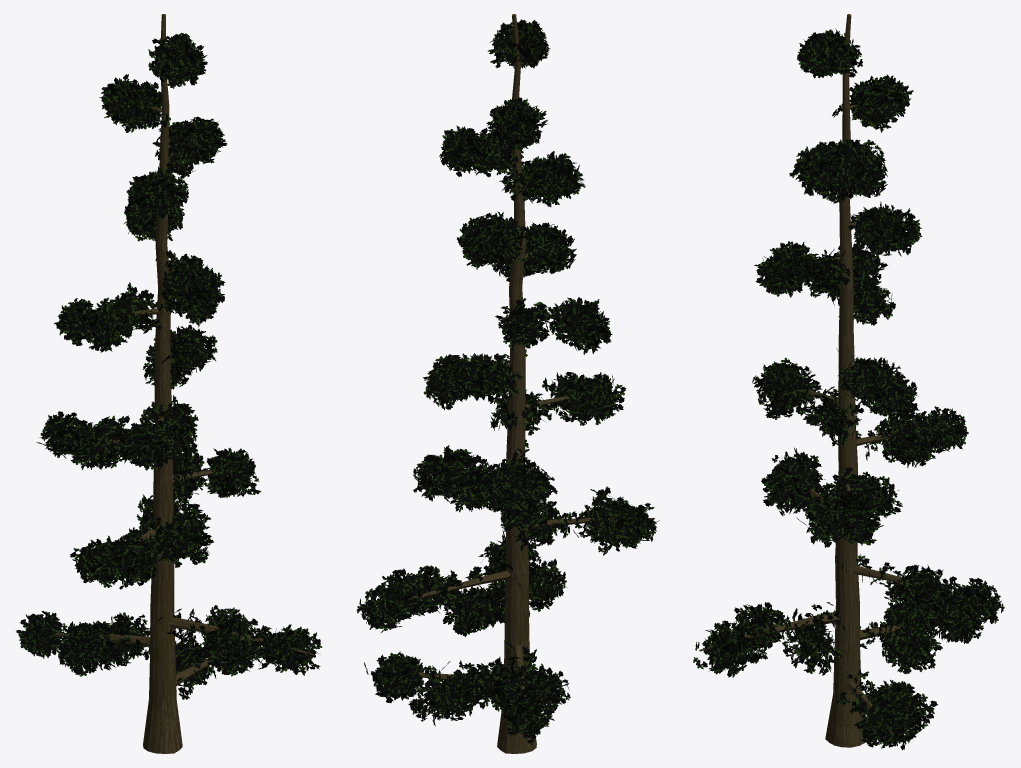
The model's file is spruce_conifer_v02.fbx.
The picture shows the model from 3 angles, left to right: view 1: azimuth 30°, elevation 25°; view 2: azimuth 150°, elevation 25°; view 3: azimuth 270°, elevation 25°; orthographic projection.
Visible parts, largest first — view 1: spruce_conifer_v02; view 2: spruce_conifer_v02; view 3: spruce_conifer_v02.
Boxes of the visible parts, bbox=[...] form: spruce_conifer_v02: bbox=[16, 14, 322, 753]; spruce_conifer_v02: bbox=[356, 14, 659, 753]; spruce_conifer_v02: bbox=[693, 14, 1004, 750].
Bounding box in the file's own units: 981 × 1104 × 2801.
Materials: 2 (2 with a texture image).
